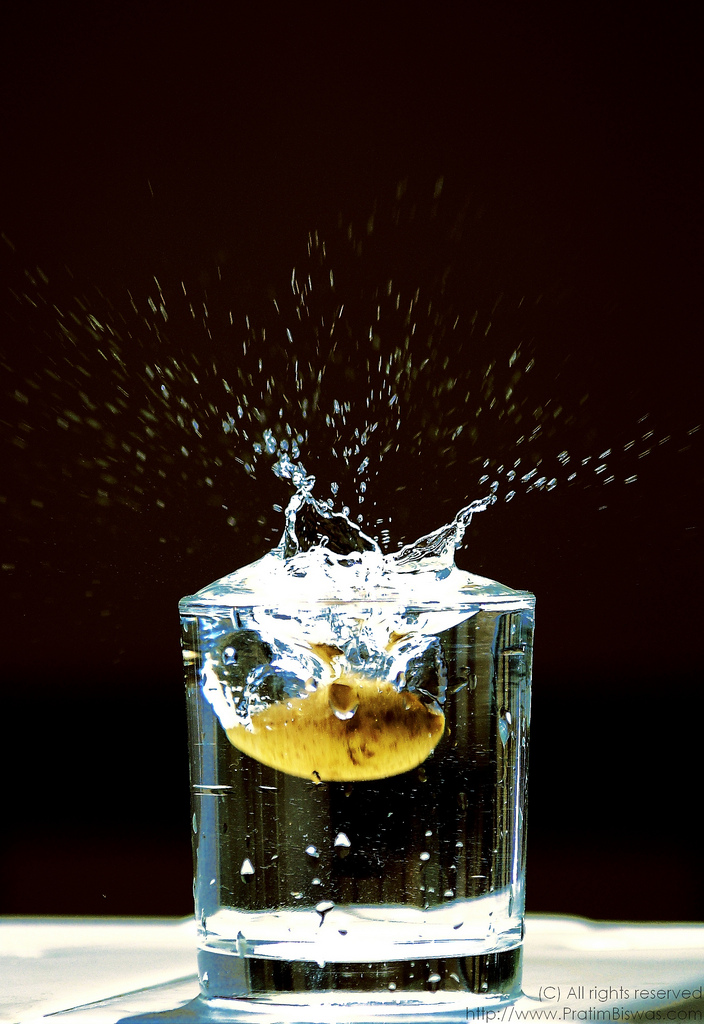glass of water: (147, 452, 542, 1024)
